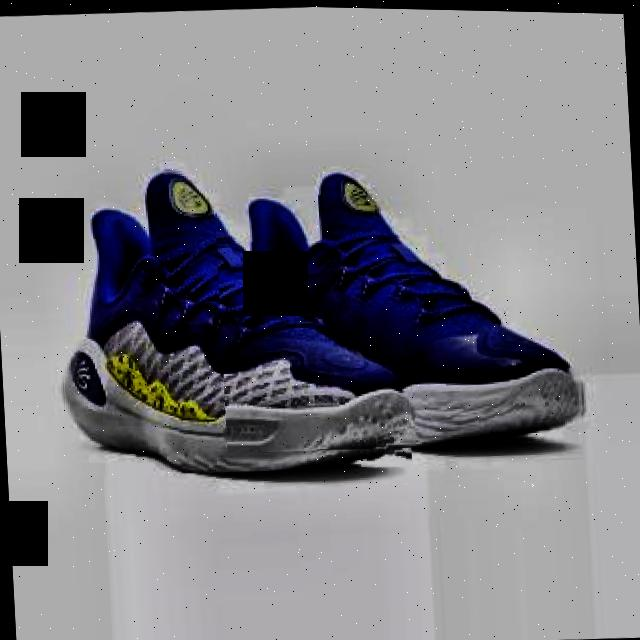shoe: (50, 152, 412, 483), (213, 155, 589, 458)
